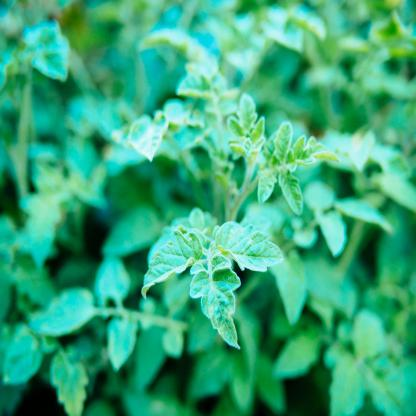tomato leaf: (135, 217, 211, 298), (196, 246, 247, 359), (211, 220, 282, 278)
